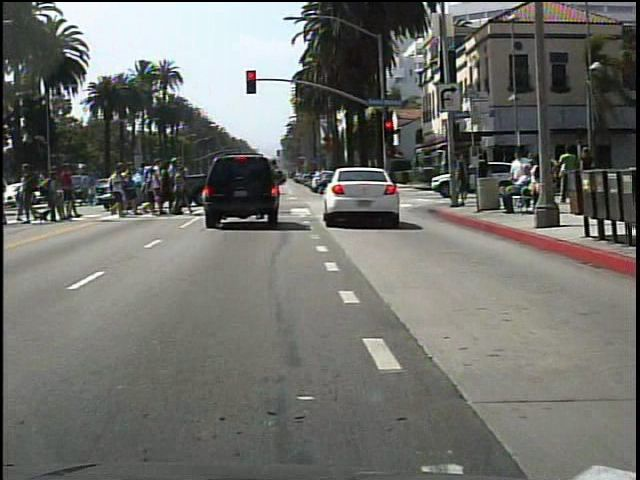person: (499, 161, 534, 215)
